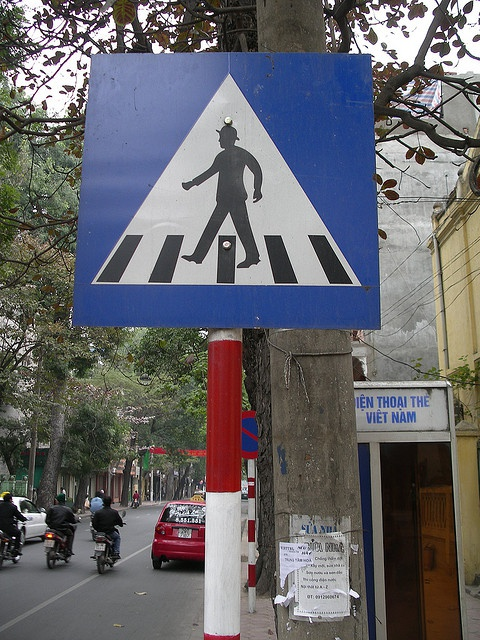non-vehicle: (40, 526, 65, 570), (95, 531, 115, 575), (0, 530, 23, 565)
